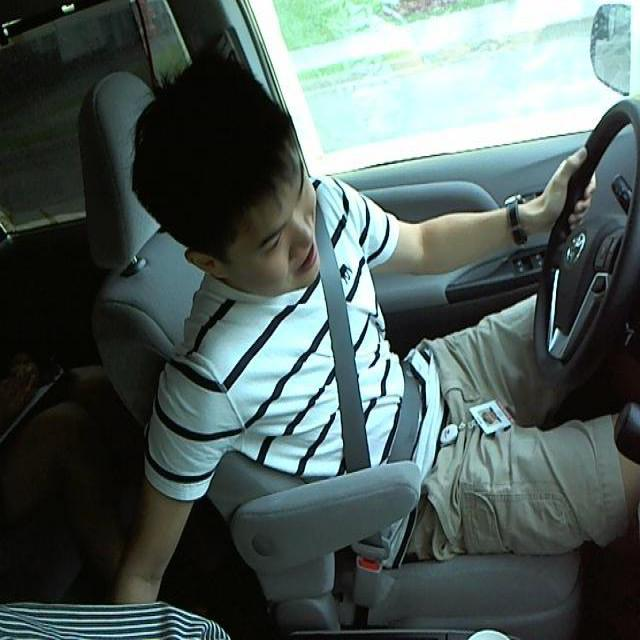seatbelt: (324, 273, 414, 471)
